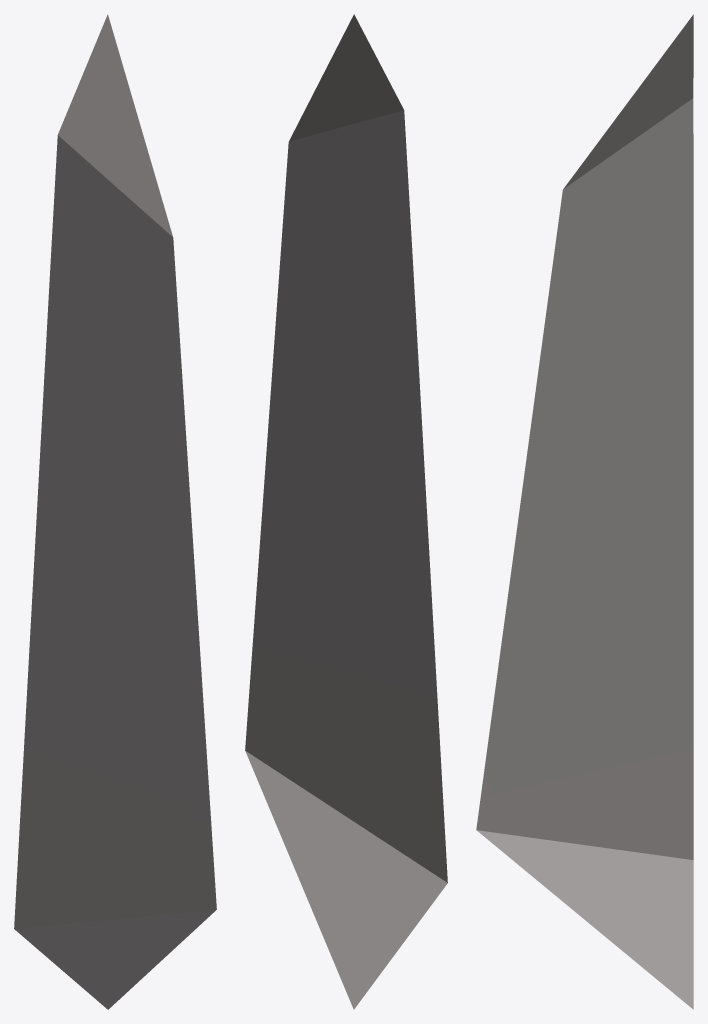
The picture shows the model from 3 angles, left to right: view 1: azimuth 30°, elevation 25°; view 2: azimuth 210°, elevation 25°; view 3: azimuth 270°, elevation 25°; orthographic projection.
Size of the model in its own units: 0.00126 by 0.0128 by 0.00253.
1 material, 1 textured.
